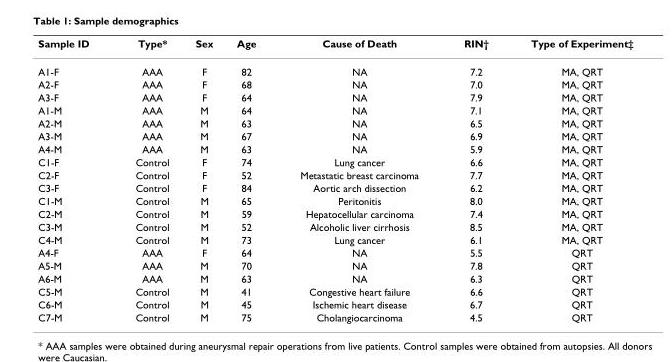table: (37, 36, 632, 322)
table column: (277, 36, 440, 322), (508, 36, 632, 322), (37, 36, 111, 322), (111, 36, 181, 322), (440, 36, 508, 322), (224, 36, 277, 322), (181, 36, 224, 322)
table column header: (37, 36, 632, 57)
table row: (37, 36, 632, 57), (37, 57, 632, 77), (37, 77, 632, 90), (37, 90, 632, 103), (37, 103, 632, 116), (37, 116, 632, 129), (37, 129, 632, 142), (37, 142, 632, 155), (37, 155, 632, 168), (37, 168, 632, 181), (37, 181, 632, 194), (37, 206, 632, 219), (37, 219, 632, 232), (37, 232, 632, 245), (37, 245, 632, 258), (37, 258, 632, 271), (37, 271, 632, 284), (37, 284, 632, 297), (37, 297, 632, 310), (37, 194, 632, 206), (37, 310, 632, 322)
